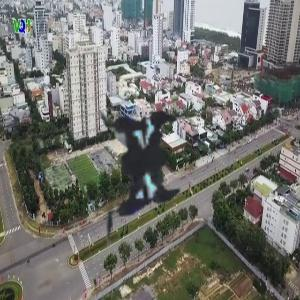drone: (2, 31, 269, 298)
